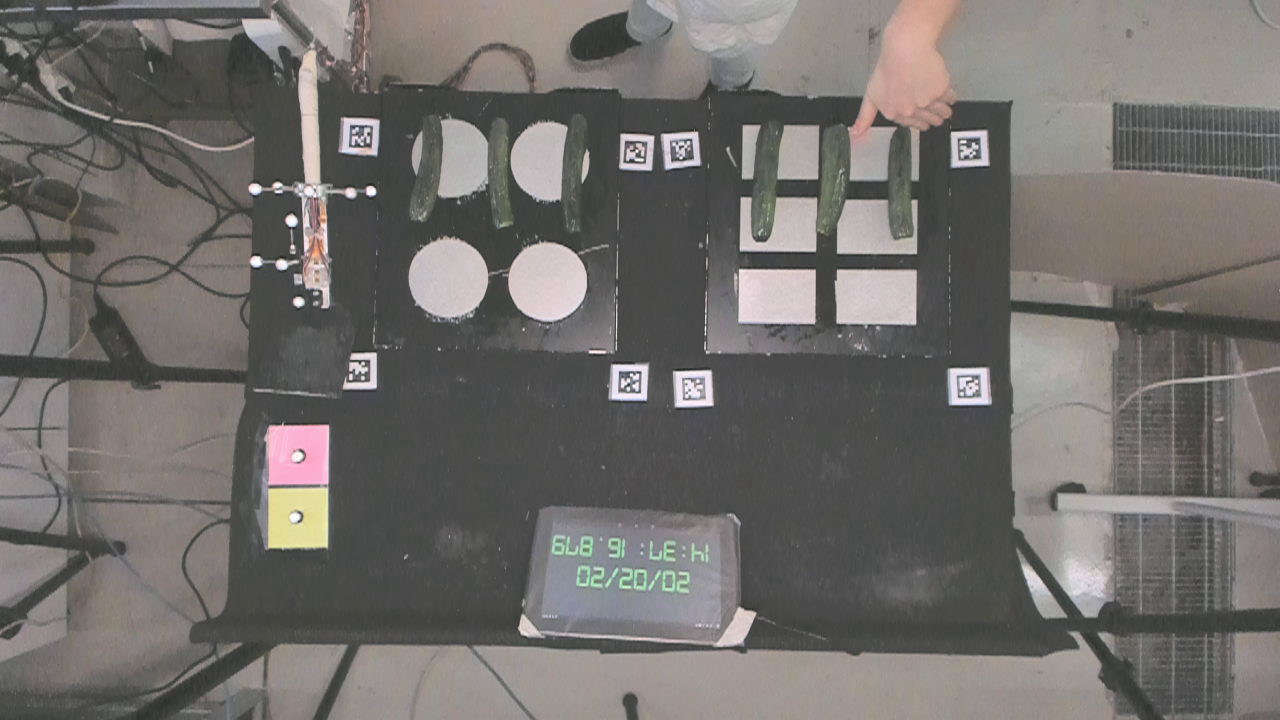marker: (268, 423, 330, 486)
zucchini: (816, 116, 849, 242), (884, 120, 917, 242), (487, 107, 519, 229), (559, 109, 588, 237), (752, 111, 779, 247), (416, 102, 444, 222)
